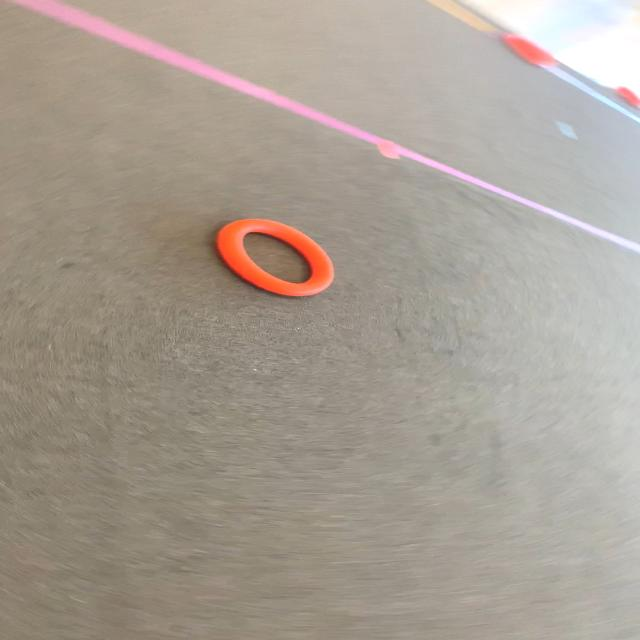notes: (214, 216, 338, 299)
